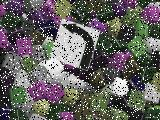Left: (50, 19, 100, 71)
